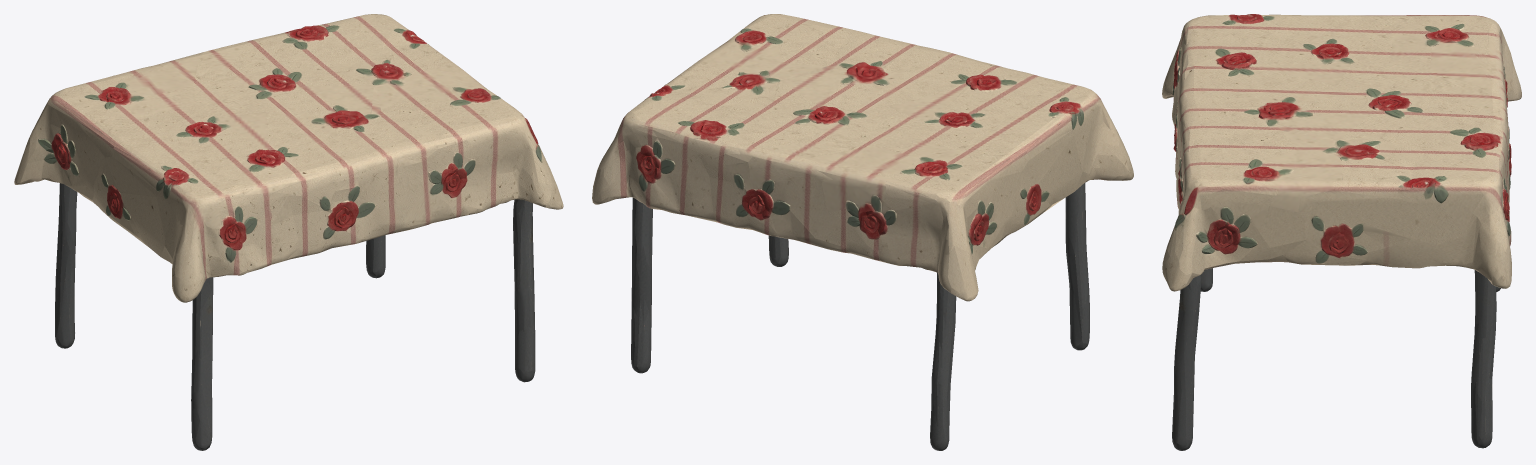
The model's file is tavolo.glb.
The picture shows the model from 3 angles, left to right: view 1: azimuth 30°, elevation 25°; view 2: azimuth 150°, elevation 25°; view 3: azimuth 270°, elevation 25°; orthographic projection. The views are drawn at different scales.
Parts seen in each view (by area): view 1: Mesh_0; view 2: Mesh_0; view 3: Mesh_0.
Part boxes in pixels (left/top/right/bottom): Mesh_0: left=14, top=14, right=563, bottom=450; Mesh_0: left=592, top=14, right=1133, bottom=450; Mesh_0: left=1162, top=14, right=1521, bottom=450.
Bounding box in the file's own units: 1.9 × 1.23 × 1.47.
1 material, 1 textured.
